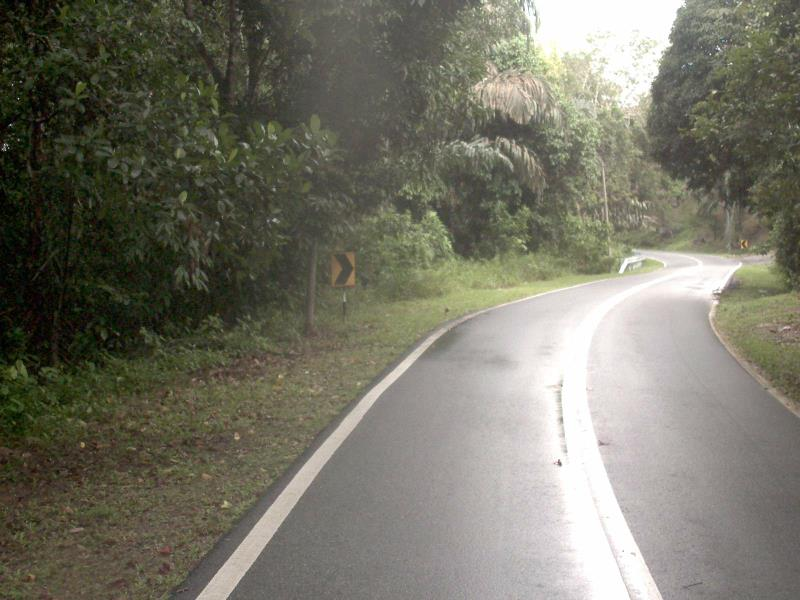traffic_sign: (320, 243, 365, 300)
